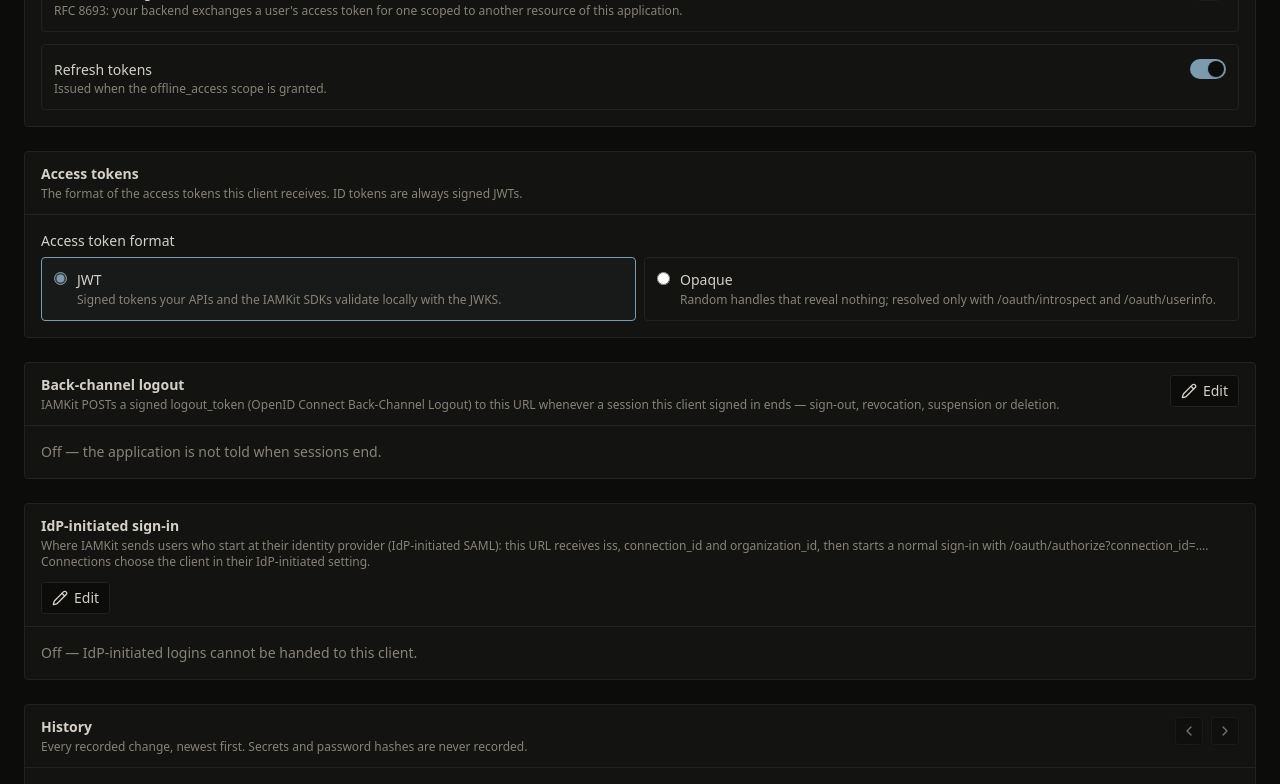
Scenario: configures back-channel logout on an OAuth client
(page scrolled)
Expected: the text "Off — the application is not told when sessions end." is shown, [41,442,381,461]
Click the button with aria-label "Edit back-channel logout".
click(1204, 391)  # box [1170,375,1239,407]
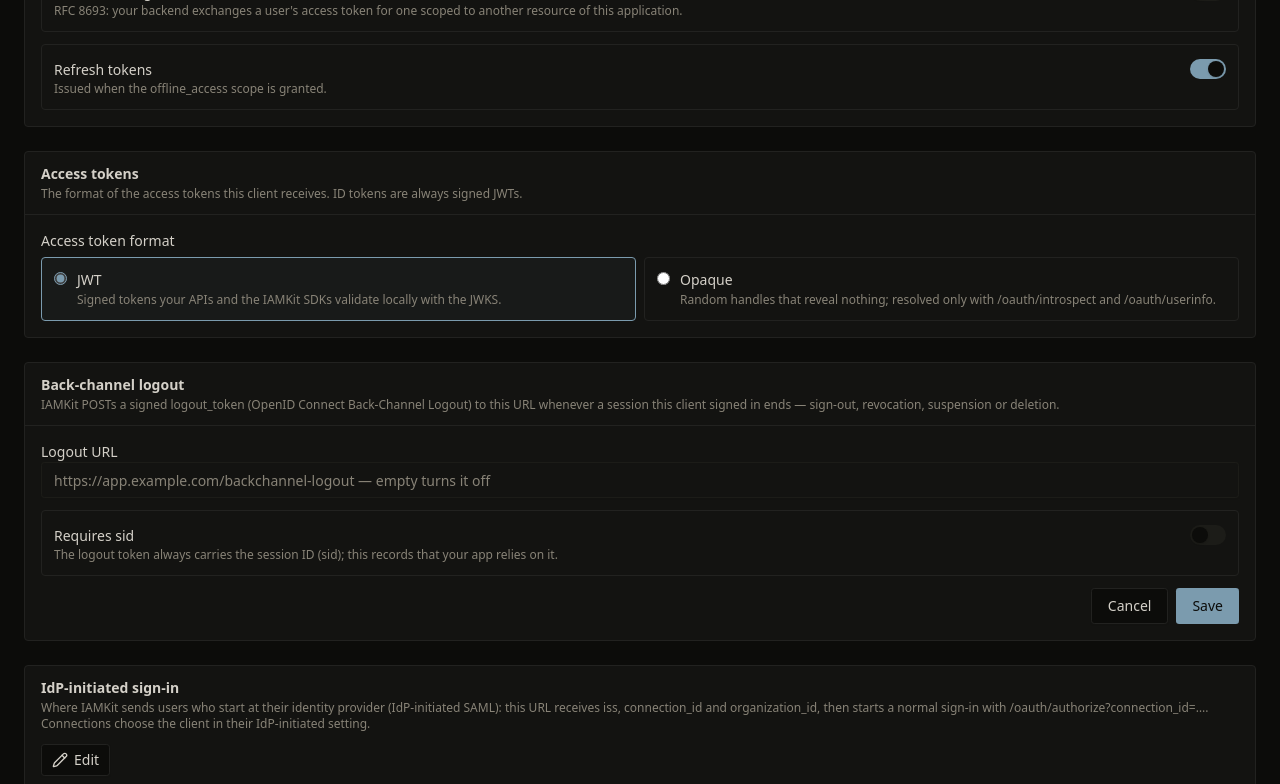
Type "https://app.example/bc" into the field labelled "Logout URL".
click(640, 480); type("https://app.example/bc")  # box [41,462,1239,498]
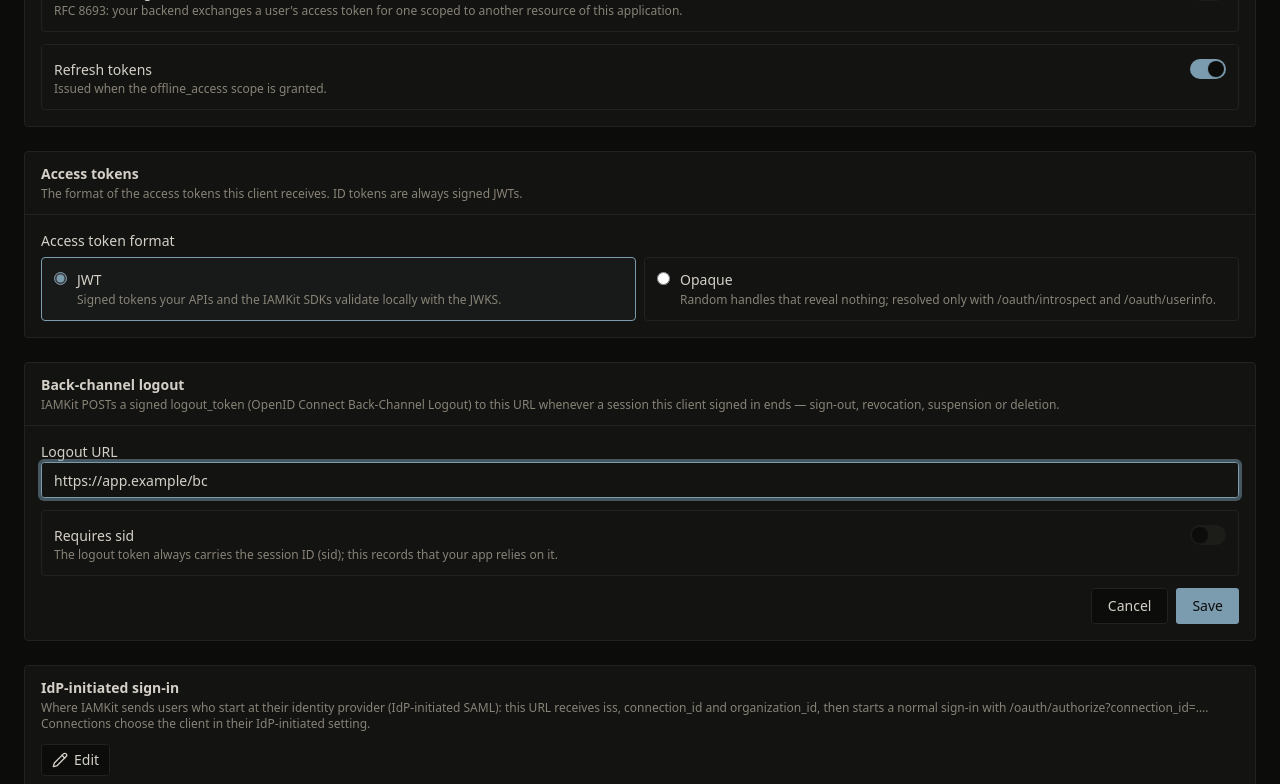
Click the switch labelled "Requires sid".
click(94, 536)  # box [54,526,134,545]
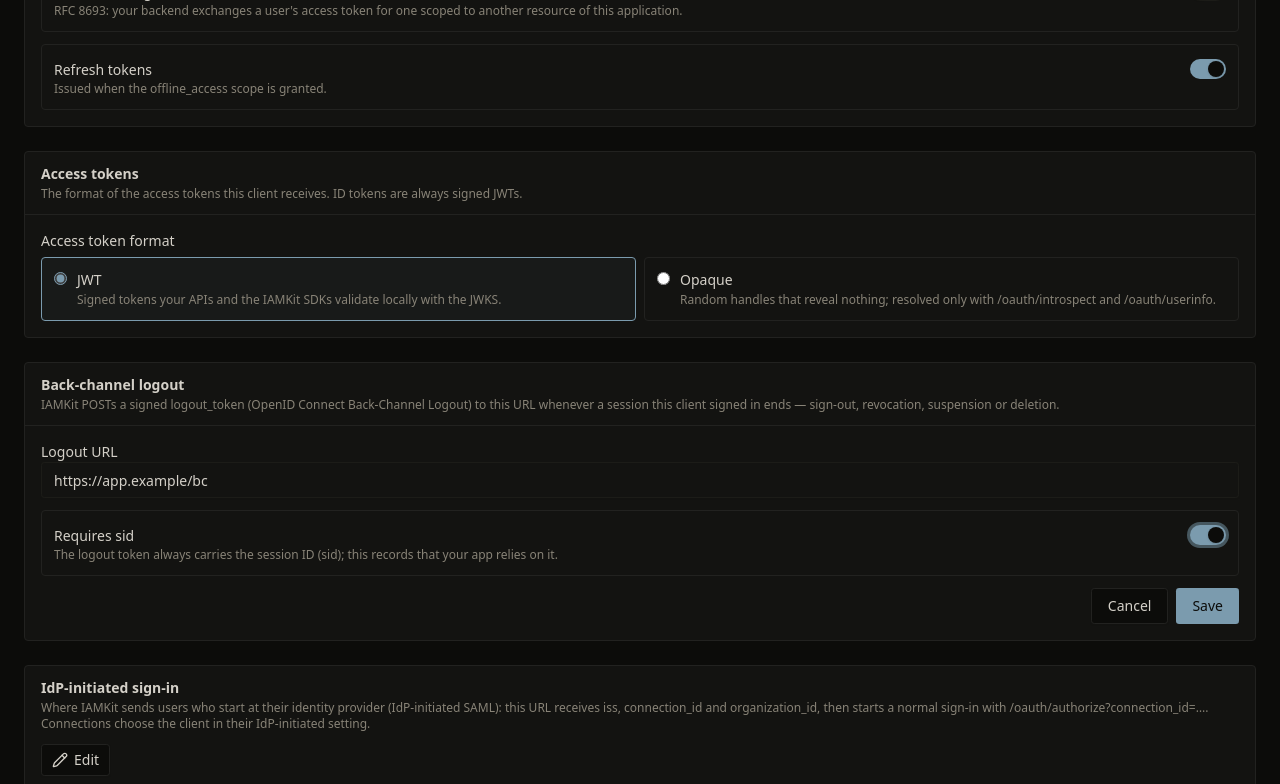
Click the button "Save".
click(1208, 606)  # box [1176,588,1239,624]
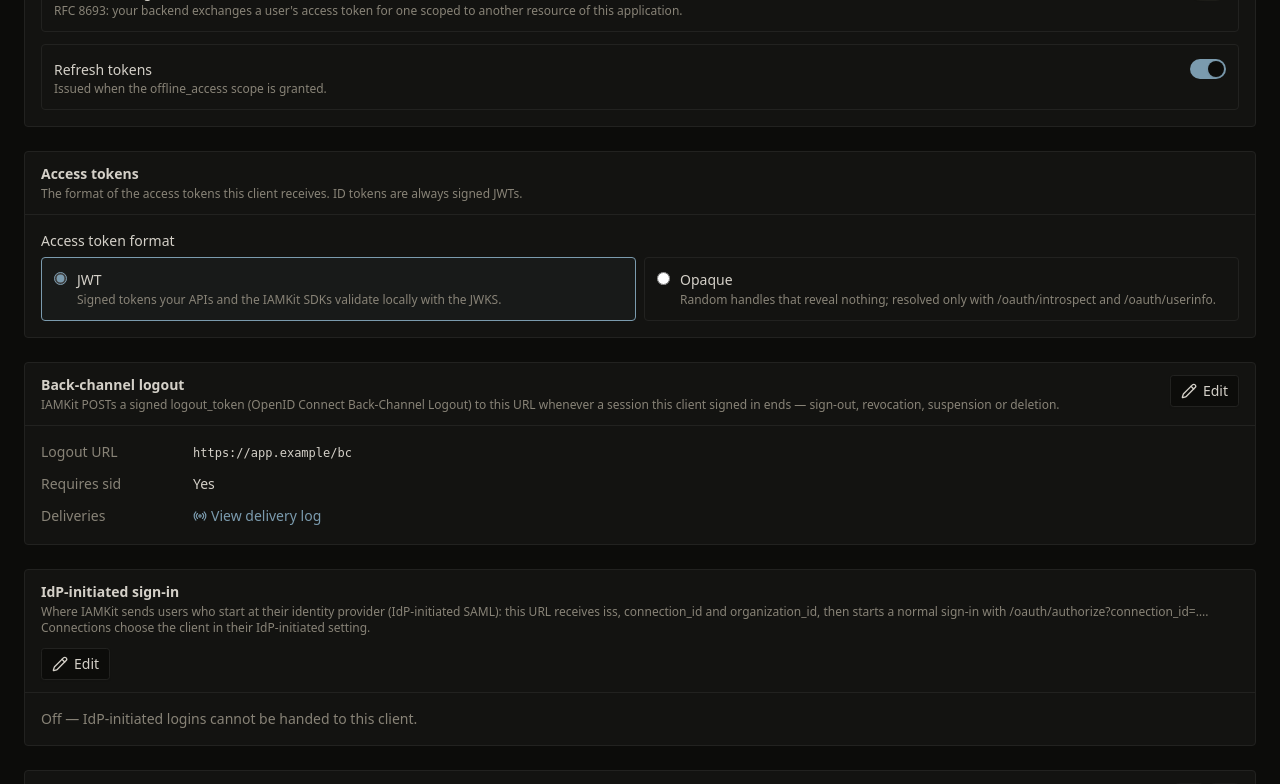
Result: the text "https://app.example/bc" is shown at [193,446,352,460]
